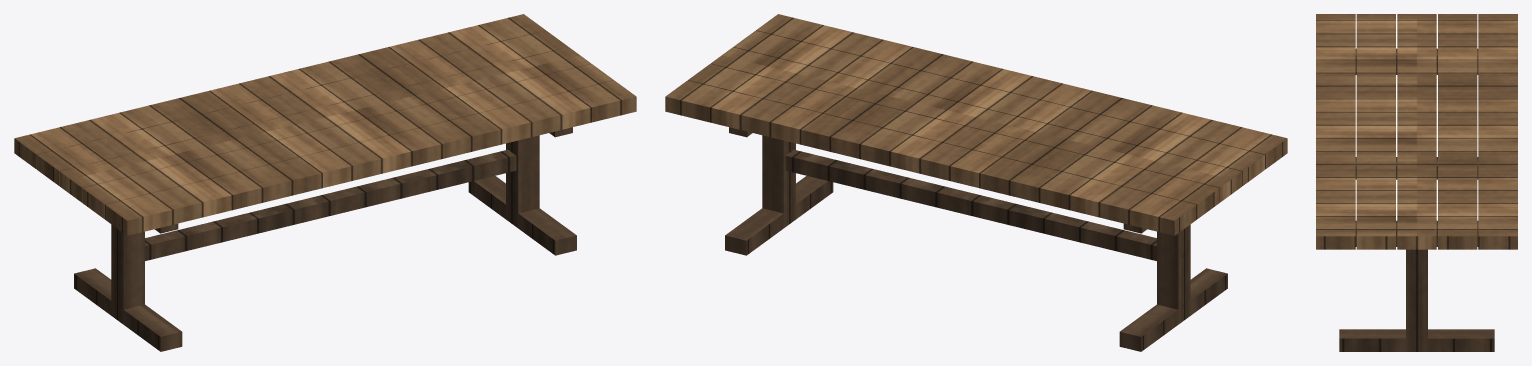
Rendered from Table_Large.gltf.
The picture shows the model from 3 angles, left to right: view 1: azimuth 30°, elevation 25°; view 2: azimuth 150°, elevation 25°; view 3: azimuth 270°, elevation 25°; orthographic projection. The views are drawn at different scales.
Parts seen in each view (by area): view 1: Table_Large; view 2: Table_Large; view 3: Table_Large.
Boxes of the visible parts, x1,y1,x2,y2 form: Table_Large: [14, 14, 636, 351]; Table_Large: [665, 14, 1287, 351]; Table_Large: [1316, 14, 1517, 351].
Bounding box in the file's own units: 2.84 × 0.81 × 1.09.
2 materials, 2 textured.
